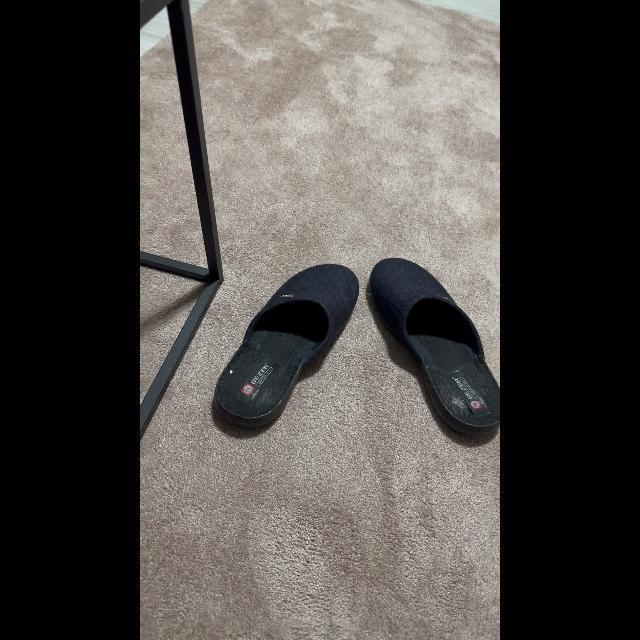slipper: (360, 237, 500, 453), (208, 251, 364, 443)
